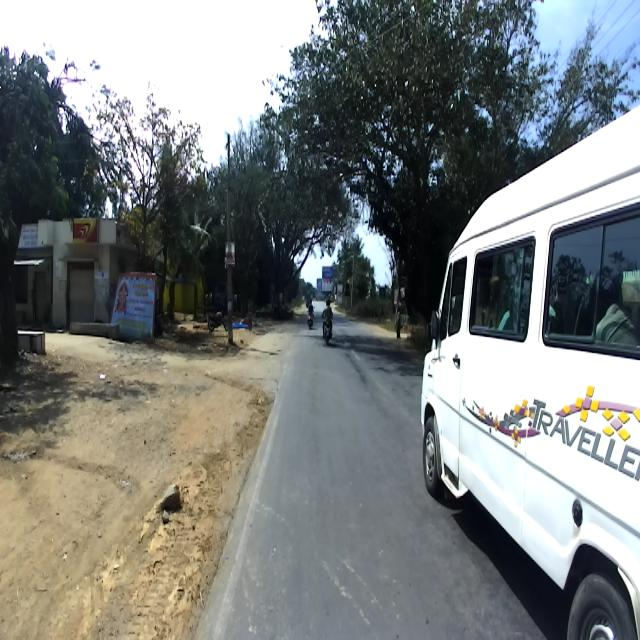bus ahead at: (414, 128, 639, 640)
electric pole ahead at: (220, 122, 246, 364)
